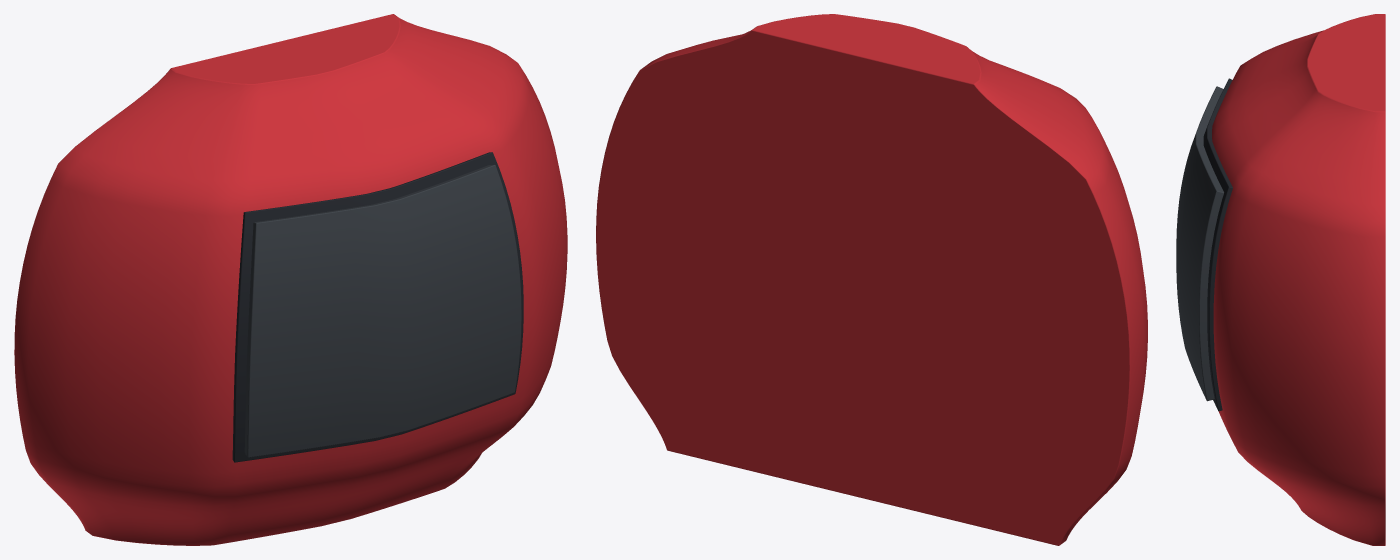
File: ShoulderBack_Set01_Ironclad.fbx
The picture shows the model from 3 angles, left to right: view 1: azimuth 30°, elevation 25°; view 2: azimuth 150°, elevation 25°; view 3: azimuth 270°, elevation 25°; orthographic projection. The views are drawn at different scales.
Parts seen in each view (by area): view 1: ShoulderBack_Set01_Ironclad; view 2: ShoulderBack_Set01_Ironclad; view 3: ShoulderBack_Set01_Ironclad.
Part boxes in pixels (left/top/right/bottom): ShoulderBack_Set01_Ironclad: left=14, top=14, right=567, bottom=545; ShoulderBack_Set01_Ironclad: left=596, top=14, right=1147, bottom=545; ShoulderBack_Set01_Ironclad: left=1176, top=14, right=1385, bottom=545.
Size of the model in its own units: 0.4437 by 0.35 by 0.167.
